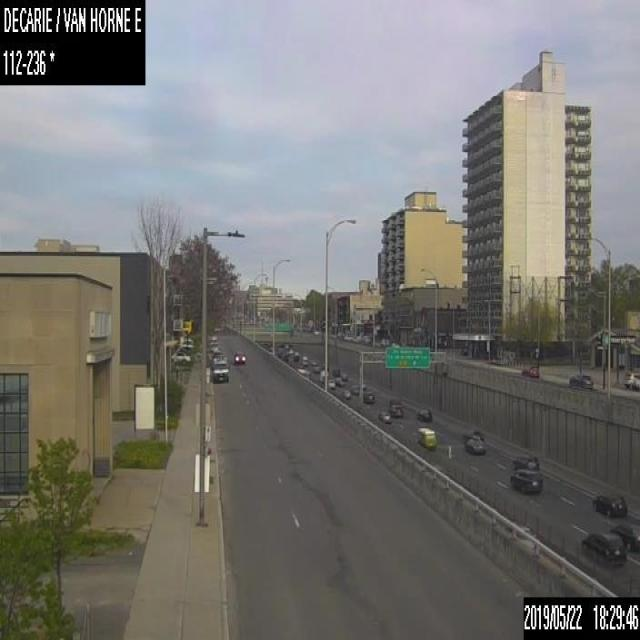vehicle: (580, 531, 625, 564), (591, 490, 626, 516), (609, 522, 639, 550), (510, 467, 542, 492), (511, 453, 538, 469), (416, 428, 436, 447), (209, 360, 228, 380), (464, 436, 486, 453), (568, 373, 592, 388), (388, 398, 402, 416), (463, 427, 484, 439), (624, 372, 639, 388), (521, 363, 538, 377), (416, 407, 431, 421), (171, 350, 189, 361), (377, 410, 390, 423), (233, 350, 245, 364), (362, 389, 374, 403), (211, 354, 226, 364), (349, 383, 358, 393), (326, 380, 335, 389), (312, 360, 320, 370), (361, 335, 371, 343), (342, 389, 350, 399), (332, 367, 339, 377), (333, 376, 341, 384), (390, 339, 398, 347), (297, 368, 306, 375), (340, 372, 348, 379), (293, 351, 299, 360), (302, 356, 307, 364)
